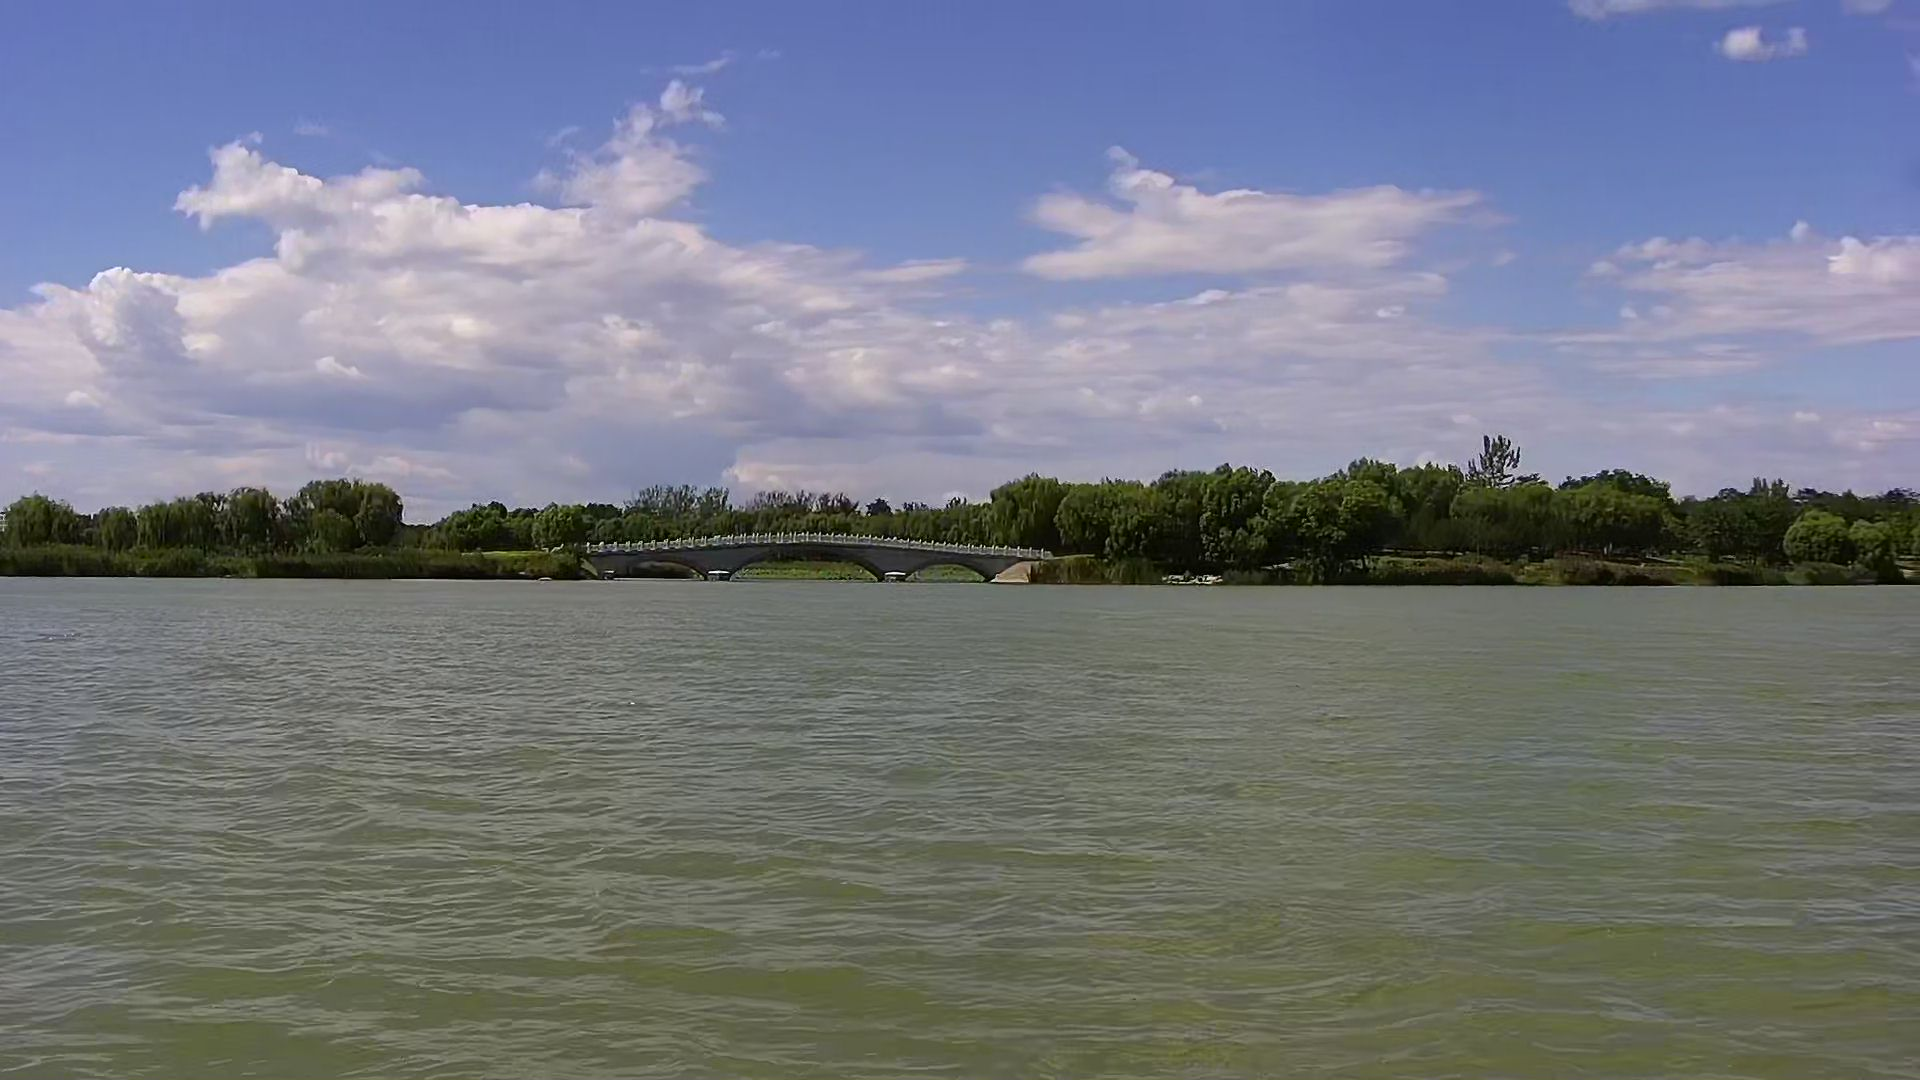bridge: (578, 521, 1035, 583)
